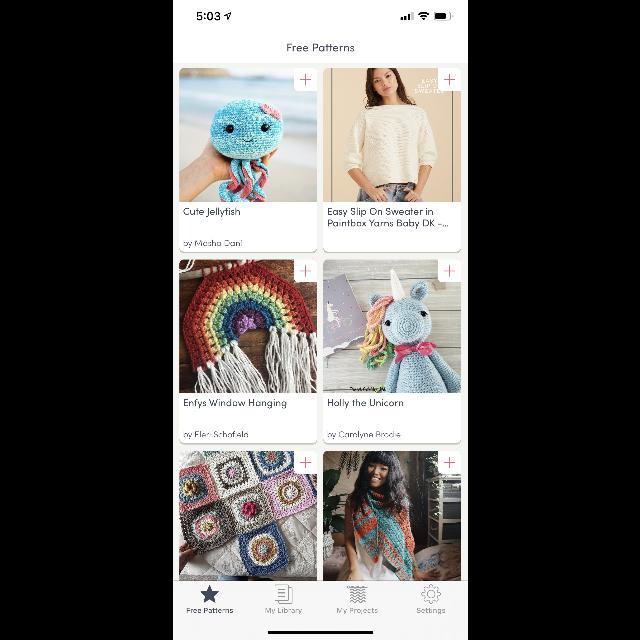icon: (294, 68, 316, 92), (438, 451, 460, 473), (294, 451, 316, 473), (294, 260, 316, 282), (438, 260, 460, 282), (438, 69, 460, 91), (422, 584, 441, 604), (274, 584, 292, 604), (347, 586, 368, 602), (200, 586, 218, 602)
image: (178, 68, 316, 202), (324, 68, 461, 202), (178, 260, 316, 392), (324, 260, 461, 392), (178, 451, 316, 581), (324, 452, 461, 580)
text: (328, 208, 448, 228), (183, 399, 285, 408), (328, 399, 402, 408), (326, 431, 399, 439), (183, 207, 239, 217), (286, 44, 354, 52), (182, 431, 248, 439), (183, 240, 241, 248), (337, 608, 377, 614), (265, 608, 301, 614), (186, 608, 232, 612), (417, 608, 445, 614)
uppertaskbar: (196, 12, 452, 21)
